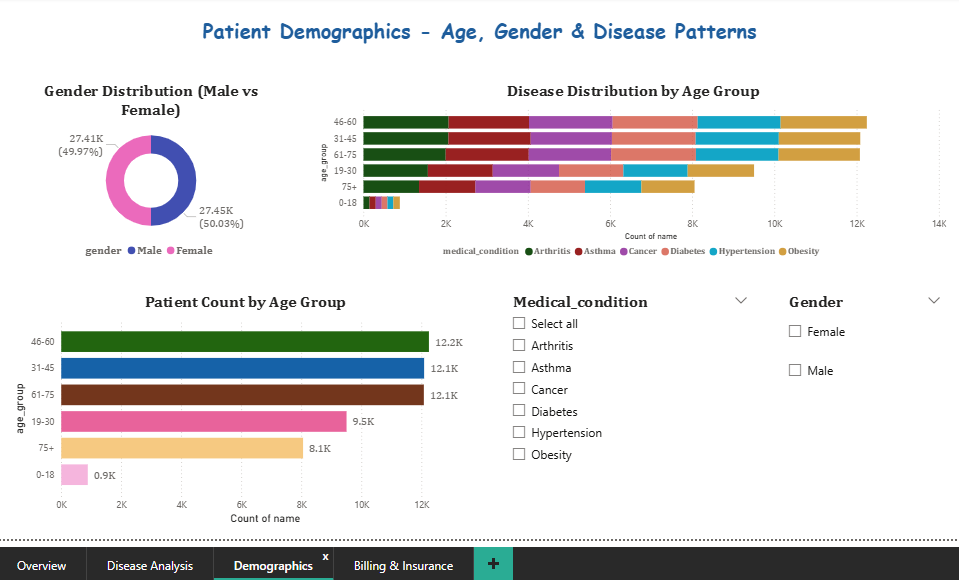

The page's visual inventory and layout, read from the dashboard file:
{"tool":"powerbi","page":{"name":"Demographics","canvas":[1280,720],"ordinal":2},"visuals":[{"type":"donutChart","title":"Gender Distribution (Male vs Female)","fields":{"Category":["healthcare_clean.gender"],"Y":["CountNonNull(healthcare_clean.name)"]},"box":[0,91.7,406.7,280],"z":0},{"type":"clusteredBarChart","title":"Patient Count by Age Group","fields":{"Y":["CountNonNull(healthcare_clean.name)"],"Category":["healthcare_clean.age_group"]},"box":[0,371.7,656.7,348.3],"z":1000},{"type":"barChart","title":"Disease Distribution by Age Group","fields":{"Category":["healthcare_clean.age_group"],"Y":["CountNonNull(healthcare_clean.name)"],"Series":["healthcare_clean.medical_condition"]},"box":[406.7,91.7,873.3,280],"z":2000},{"type":"slicer","fields":{"Values":["healthcare_clean.gender"]},"box":[1023.3,371.7,256.7,348.3],"z":3000},{"type":"slicer","fields":{"Values":["healthcare_clean.medical_condition"]},"box":[656.7,371.7,366.7,348.3],"z":4000},{"type":"textbox","box":[0,20,1280,71.7],"z":5000}]}

Visuals, with their boxes on the page's 1280x720 design canvas (x1, y1, x2, y2). These are canvas units, not pixel positions in the 959x580 screenshot, which may show the page scaled, cropped or inside an application window:
"Gender Distribution (Male vs Female)" donutChart: select_region(0, 92, 407, 372)
"Patient Count by Age Group" clusteredBarChart: select_region(0, 372, 657, 720)
"Disease Distribution by Age Group" barChart: select_region(407, 92, 1280, 372)
slicer - healthcare_clean.gender: select_region(1023, 372, 1280, 720)
slicer - healthcare_clean.medical_condition: select_region(657, 372, 1023, 720)
textbox: select_region(0, 20, 1280, 92)
